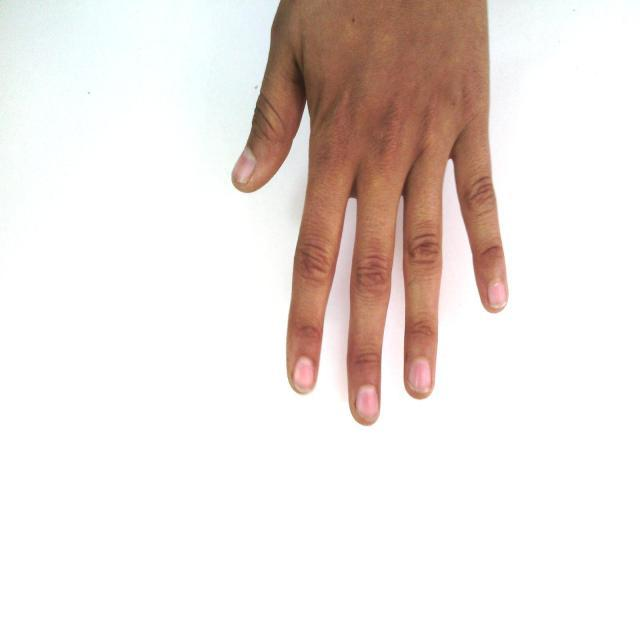Fingernail: (292, 355, 316, 393), (357, 385, 378, 420), (234, 149, 255, 182), (411, 358, 431, 392), (490, 281, 506, 308)
